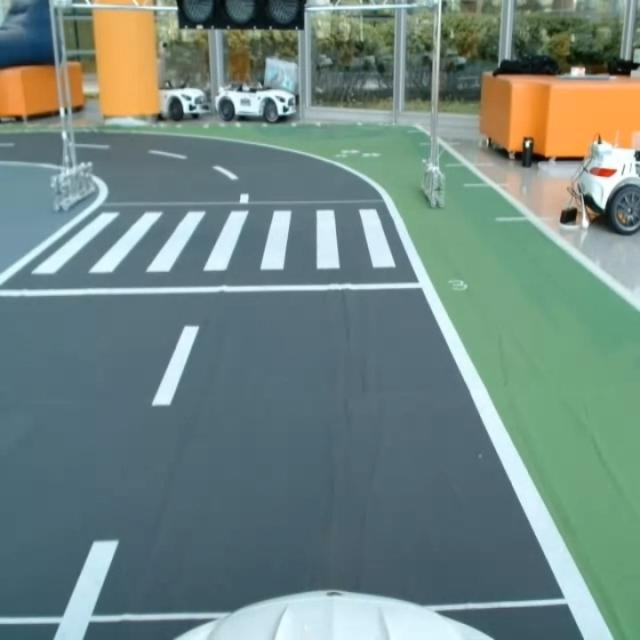traffic-light: (175, 0, 307, 35)
